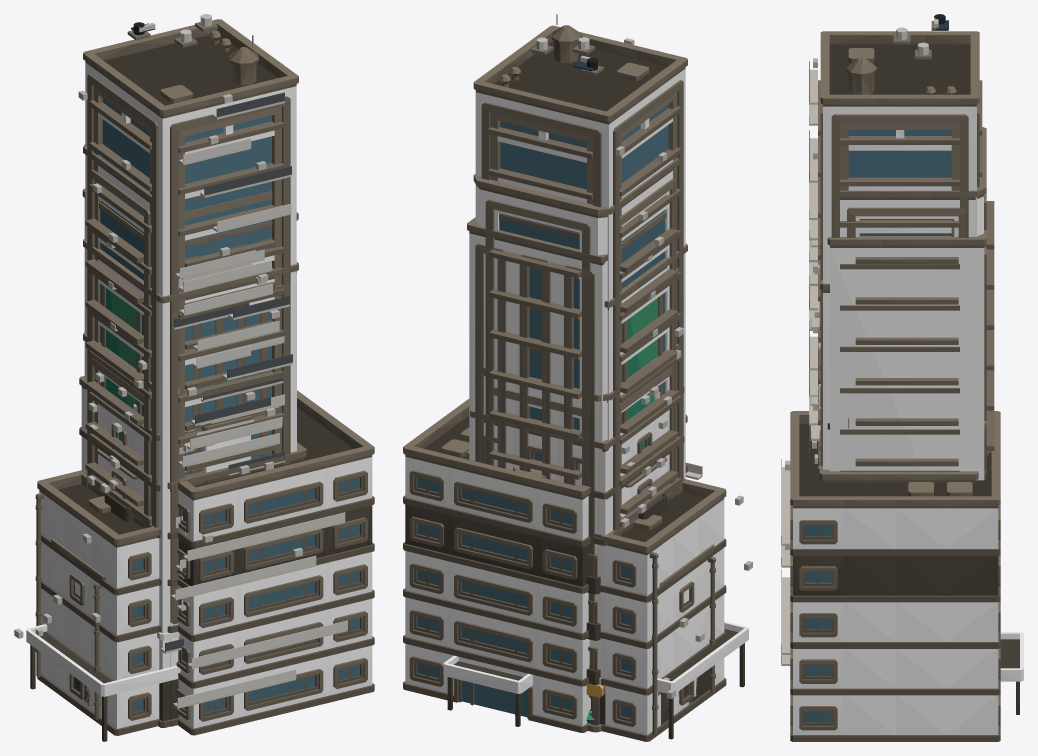
File: env_city.glb
3 renders of one model, left to right at view 1: azimuth 30°, elevation 25°; view 2: azimuth 150°, elevation 25°; view 3: azimuth 270°, elevation 25°, orthographic.
Visible parts, largest first — view 1: building-skyscraper-d, building-n, building-j, building-skyscraper-c, building-skyscraper-b, building-skyscraper-e, building-skyscraper-a, building-k, building-m, building-l; view 2: building-n, building-skyscraper-d, building-skyscraper-b, building-skyscraper-e, building-j, building-m, building-skyscraper-a, building-k, building-skyscraper-c, building-i; view 3: building-n, building-skyscraper-d, building-skyscraper-e, building-skyscraper-b, building-skyscraper-c, building-skyscraper-a, building-l.
Part boxes in pixels (x1,y1,x2,y2): building-skyscraper-d: [78, 14, 298, 727]; building-n: [14, 390, 374, 741]; building-j: [35, 470, 186, 735]; building-skyscraper-c: [83, 239, 298, 727]; building-skyscraper-b: [83, 144, 284, 528]; building-skyscraper-e: [82, 188, 298, 528]; building-skyscraper-a: [83, 331, 279, 516]; building-k: [51, 538, 105, 723]; building-m: [79, 376, 279, 538]; building-l: [104, 442, 306, 726]; building-n: [403, 392, 752, 739]; building-skyscraper-d: [473, 14, 687, 535]; building-skyscraper-b: [473, 158, 679, 724]; building-skyscraper-e: [467, 211, 681, 725]; building-j: [585, 479, 726, 741]; building-m: [470, 386, 684, 731]; building-skyscraper-a: [482, 344, 679, 715]; building-k: [657, 544, 715, 731]; building-skyscraper-c: [604, 243, 687, 530]; building-i: [586, 478, 684, 725]; building-n: [781, 411, 1023, 741]; building-skyscraper-d: [809, 14, 982, 471]; building-skyscraper-e: [818, 230, 986, 480]; building-skyscraper-b: [810, 127, 994, 463]; building-skyscraper-c: [809, 240, 959, 471]; building-skyscraper-a: [810, 370, 994, 466]; building-l: [812, 441, 991, 482].
Size of the model in its own units: 2.36 by 5.61 by 1.89.
